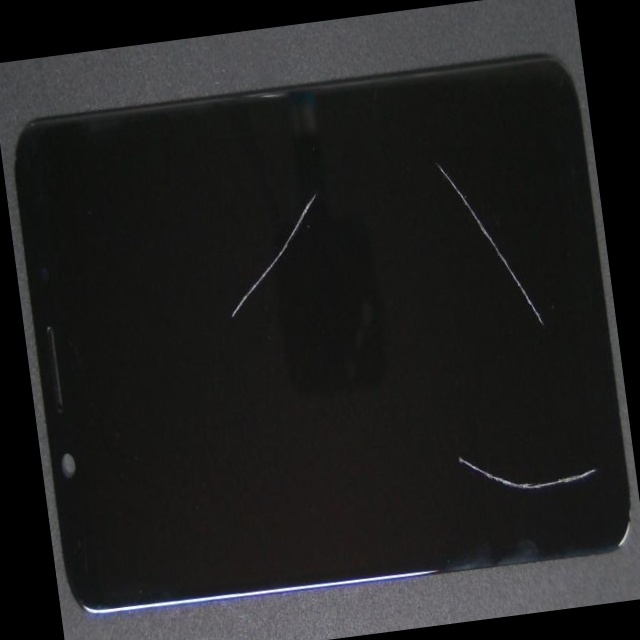scratch: (296, 251, 640, 638), (279, 189, 636, 514), (165, 79, 474, 278)
